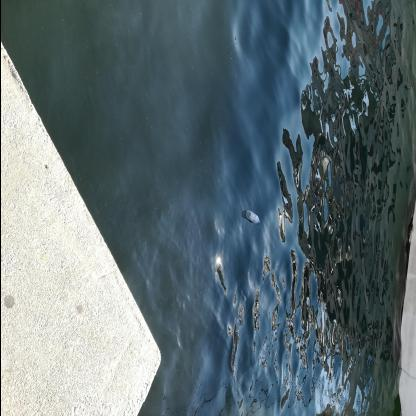plastik: (246, 211, 260, 225)
